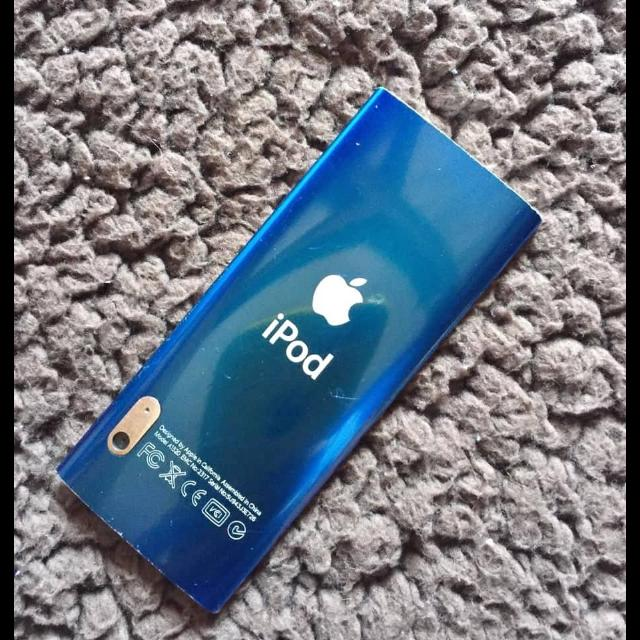Music-Player: (47, 81, 547, 614)
